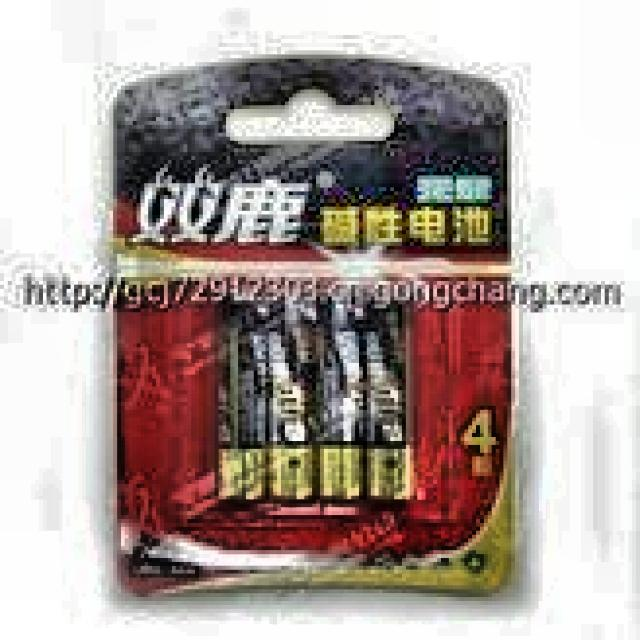Non-Valuable Waste - Batteries: (219, 302, 405, 499)
